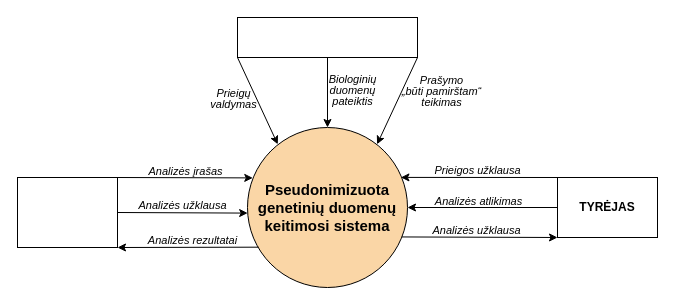
This 675x305 diagram has some shape labels left out. Here are the shapes that lost their labels. From the top down, the centre of each, then its label:
[327,37]: PACIENTAS
[67,212]: GYDYTOJAS - GENETIKAS
